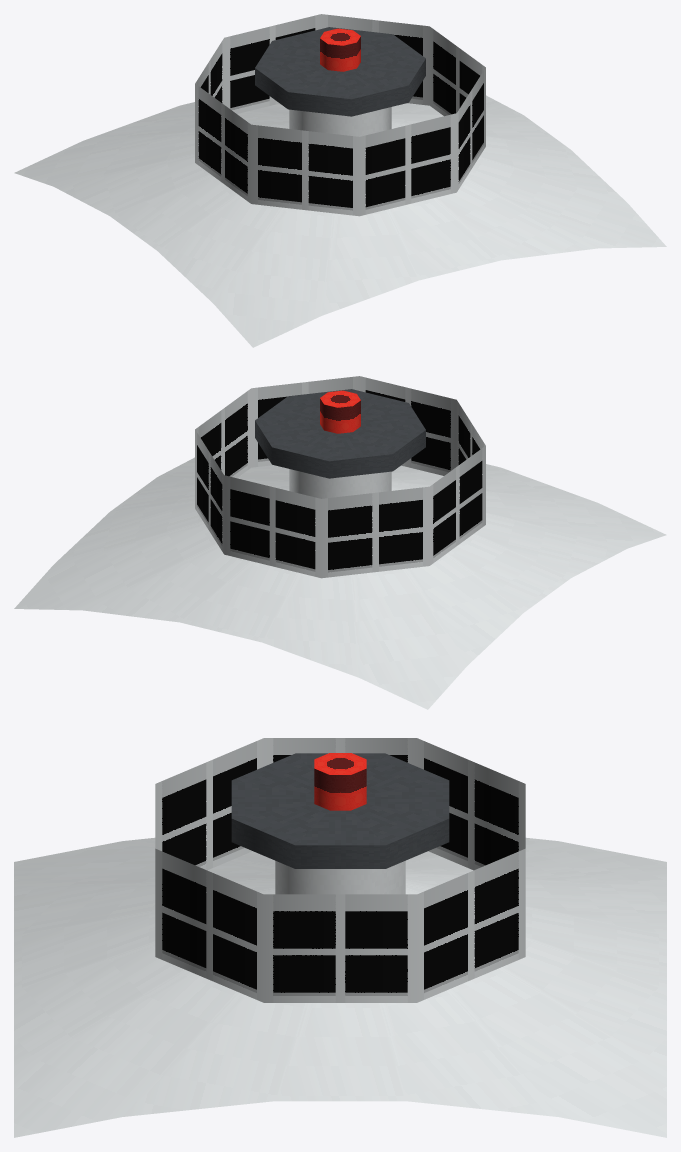
Rendered from bowl_small_1_1_1.obj.
3 renders of one model, top to bottom at view 1: azimuth 30°, elevation 25°; view 2: azimuth 150°, elevation 25°; view 3: azimuth 270°, elevation 25°, orthographic. The views are drawn at different scales.
Visible parts, largest first — view 1: bowl_small_1_1_1; view 2: bowl_small_1_1_1; view 3: bowl_small_1_1_1.
Part boxes in pixels (box(x1,y1,x2,y2)): bowl_small_1_1_1: box(14, 14, 666, 347); bowl_small_1_1_1: box(14, 376, 666, 709); bowl_small_1_1_1: box(14, 738, 666, 1137).
Size of the model in its own units: 3 by 1.2 by 3.
